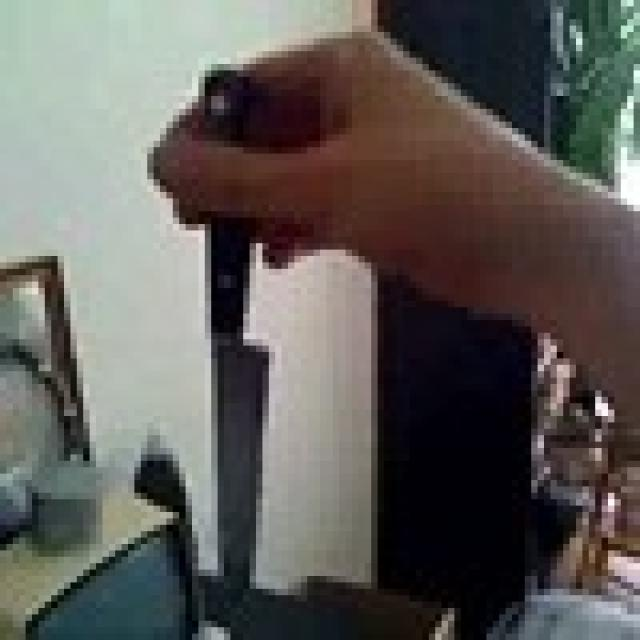Knife_Handle: (147, 0, 410, 608)
